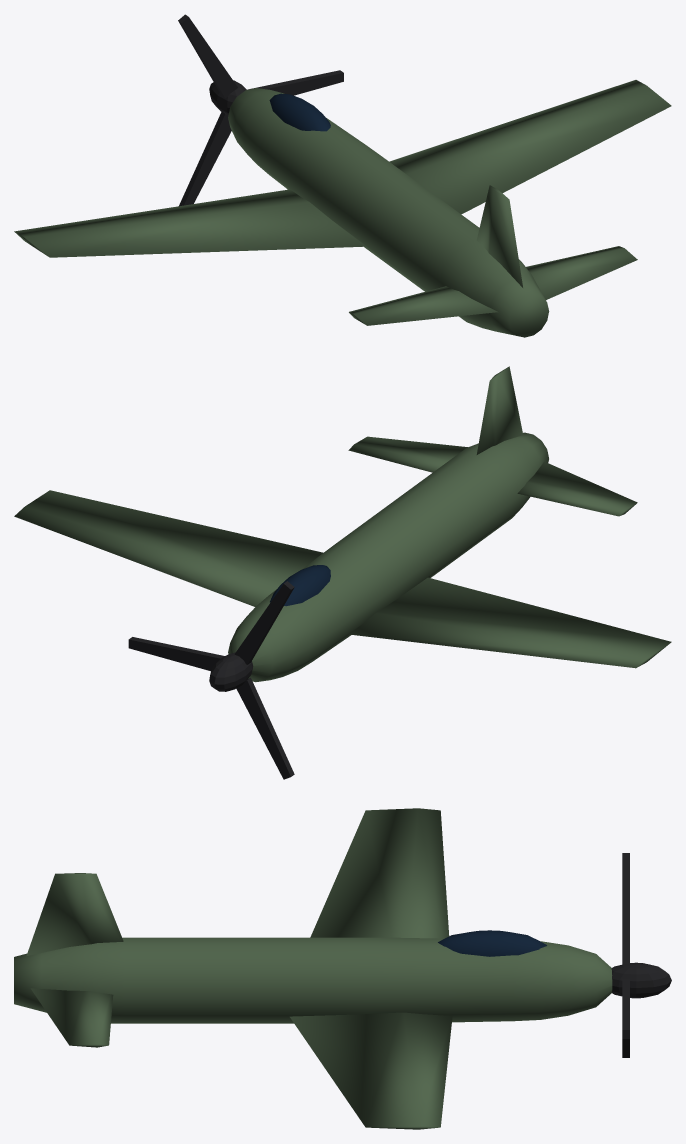
File: spitfire.obj
3 views of the same model, one above another, from view 1: azimuth 30°, elevation 25°; view 2: azimuth 150°, elevation 25°; view 3: azimuth 270°, elevation 25° (orthographic). The views are drawn at different scales.
Visible parts, largest first — view 1: Body, Detail, Canopy; view 2: Body, Detail, Canopy; view 3: Body, Detail, Canopy.
Boxes of the visible parts, <box> form: Body: <box>14,80,671,337</box>; Detail: <box>178,14,343,206</box>; Canopy: <box>269,93,330,131</box>; Body: <box>14,366,671,682</box>; Detail: <box>128,581,294,779</box>; Canopy: <box>270,565,330,606</box>; Body: <box>14,808,612,1129</box>; Detail: <box>611,853,671,1057</box>; Canopy: <box>438,930,546,956</box>.
Size of the model in its own units: 11.2 by 3.45 by 9.82.
